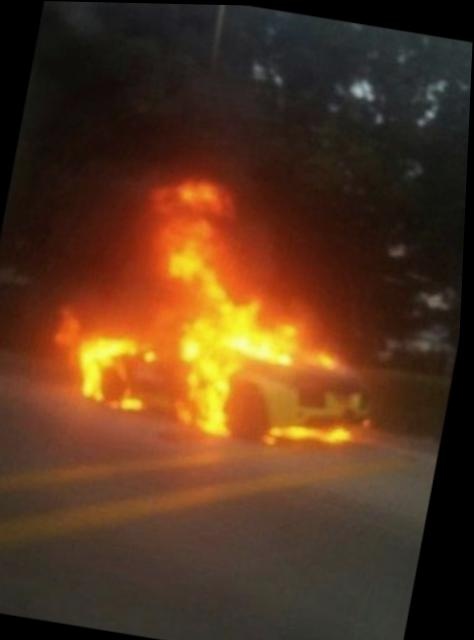fire: (58, 161, 407, 457)
